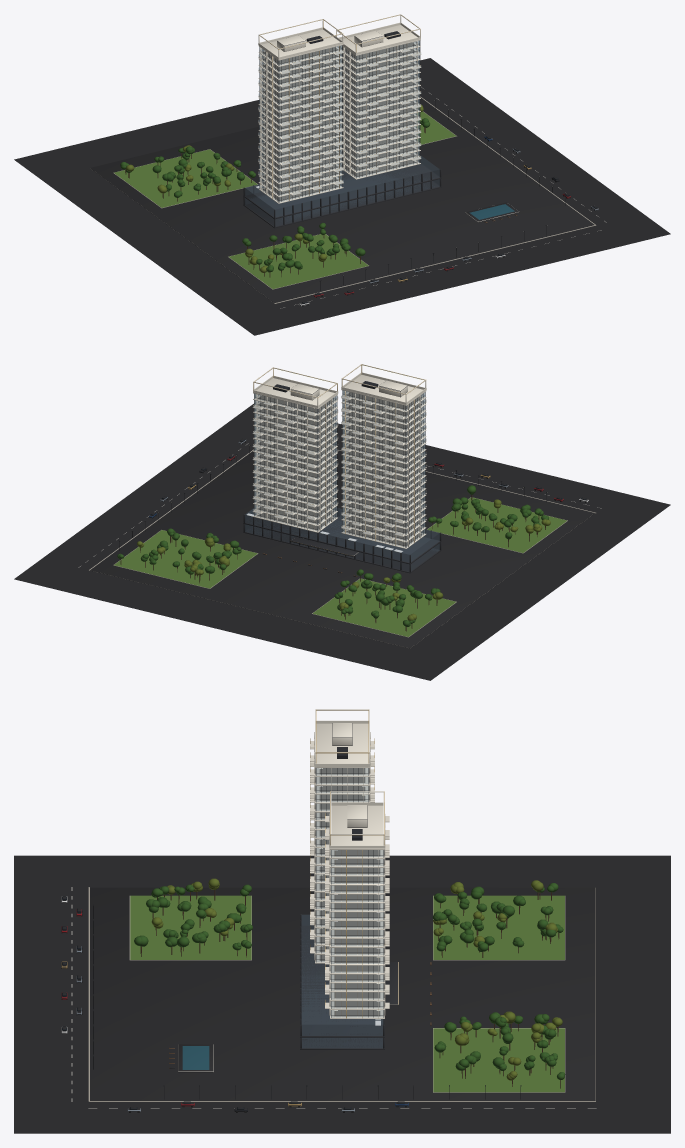
The model's file is cmv4ysd7u00197dsct3dgqku6.glb.
3 views of the same model, one above another, from view 1: azimuth 30°, elevation 25°; view 2: azimuth 150°, elevation 25°; view 3: azimuth 270°, elevation 25° (orthographic). The views are drawn at different scales.
Parts seen in each view (by area): view 1: site, podium, roof, floor-19, floor-15, floor-2, floor-4, floor-11, floor-13, floor-17, floor-6, floor-8 (+13 smaller); view 2: site, podium, roof, floor-19, floor-11, floor-13, floor-17, floor-3, floor-4, floor-8, floor-9, floor-15 (+13 smaller); view 3: site, roof, podium, floor-19, floor-16, floor-18, floor-6, floor-14, floor-4, floor-12, floor-8, floor-10 (+11 smaller).
Boxes of the visible parts, box(x1,y1,x2,y2) form: site: box(14, 58, 670, 335); podium: box(243, 155, 441, 228); roof: box(258, 14, 420, 60); floor-19: box(258, 40, 420, 87); floor-15: box(258, 68, 420, 113); floor-2: box(258, 151, 421, 197); floor-4: box(258, 138, 421, 184); floor-11: box(258, 94, 420, 139); floor-13: box(258, 81, 420, 126); floor-17: box(258, 55, 420, 100); floor-6: box(258, 125, 421, 171); floor-8: box(258, 112, 421, 158); site: box(14, 404, 670, 680); podium: box(243, 508, 441, 573); roof: box(253, 364, 426, 408); floor-19: box(253, 393, 426, 432); floor-11: box(253, 447, 426, 484); floor-13: box(253, 434, 426, 471); floor-17: box(253, 408, 426, 445); floor-3: box(253, 499, 426, 536); floor-4: box(252, 491, 426, 529); floor-8: box(252, 465, 426, 503); floor-9: box(253, 460, 426, 497); floor-15: box(253, 421, 426, 458); site: box(14, 855, 670, 1133); roof: box(315, 709, 384, 849); podium: box(300, 914, 398, 1049); floor-19: box(310, 765, 389, 858); floor-16: box(310, 799, 389, 885); floor-18: box(310, 781, 389, 867); floor-6: box(310, 888, 389, 974); floor-14: box(310, 816, 389, 903); floor-4: box(310, 905, 389, 992); floor-12: box(310, 834, 389, 921); floor-8: box(310, 870, 389, 956); floor-10: box(310, 852, 389, 938).
Size of the model in its own units: 221 by 87.75 by 221.
